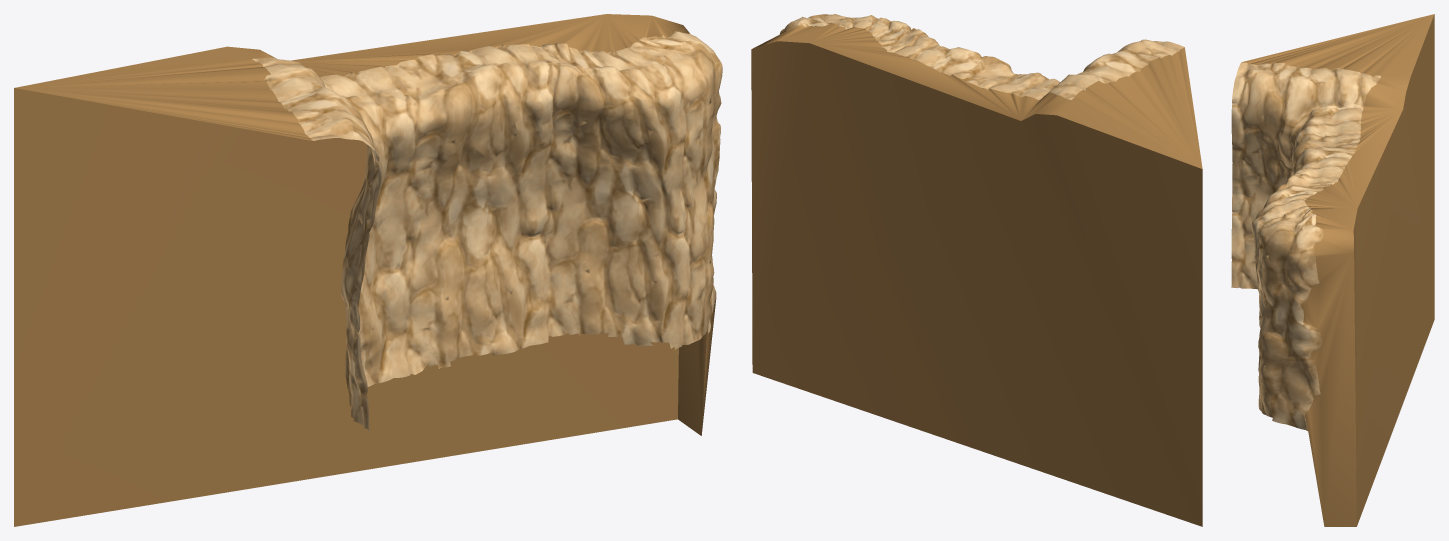
The model's file is SM_ENV_KNFRST_Wall_Ad.FBX.
The picture shows the model from 3 angles, left to right: view 1: azimuth 30°, elevation 25°; view 2: azimuth 150°, elevation 25°; view 3: azimuth 270°, elevation 25°; orthographic projection. The views are drawn at different scales.
Visible parts, largest first — view 1: SM_ENV_KNFRST_Wall_Ad; view 2: SM_ENV_KNFRST_Wall_Ad; view 3: SM_ENV_KNFRST_Wall_Ad.
Part boxes in pixels (box(x1,y1,x2,y2)): SM_ENV_KNFRST_Wall_Ad: box(14, 14, 722, 526); SM_ENV_KNFRST_Wall_Ad: box(751, 14, 1202, 526); SM_ENV_KNFRST_Wall_Ad: box(1231, 14, 1434, 526).
Size of the model in its own units: 8946 by 6360 by 3688.
